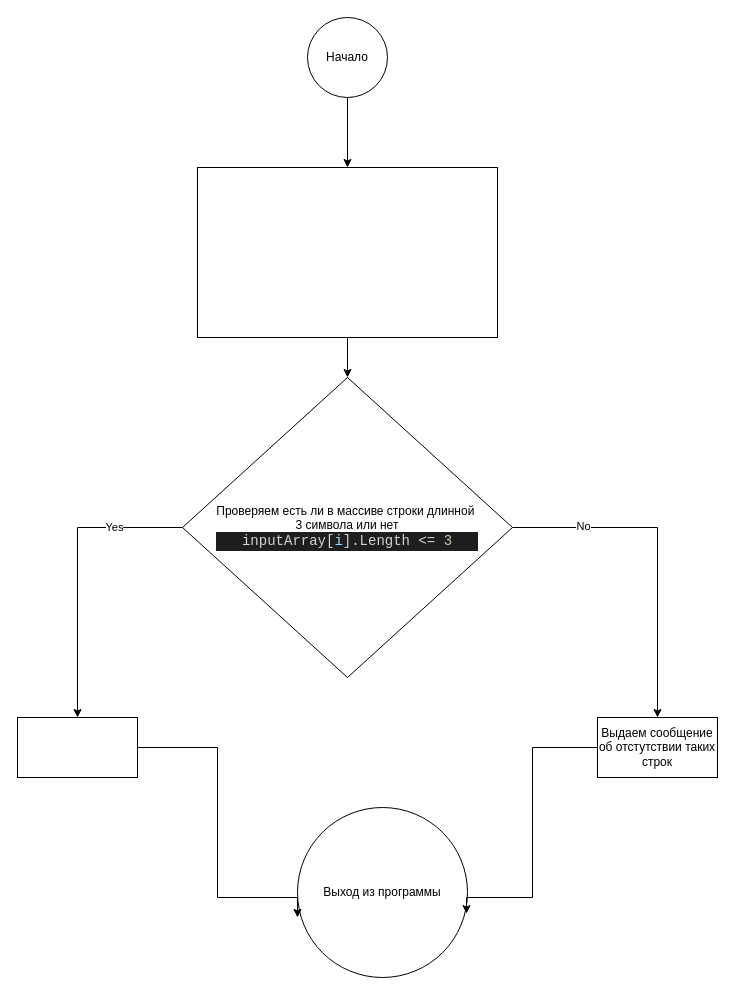
The diagram is 735 pixels wide and 995 high, and some of its shapes have lost their labels. Each missing label, with the box of its shape:
вводим строку и разбиваем на массив строк inputArray = input . Split ( ' ' ): (196, 166, 498, 338)
Вывод массив строк с 3мя символами: (16, 716, 138, 778)
